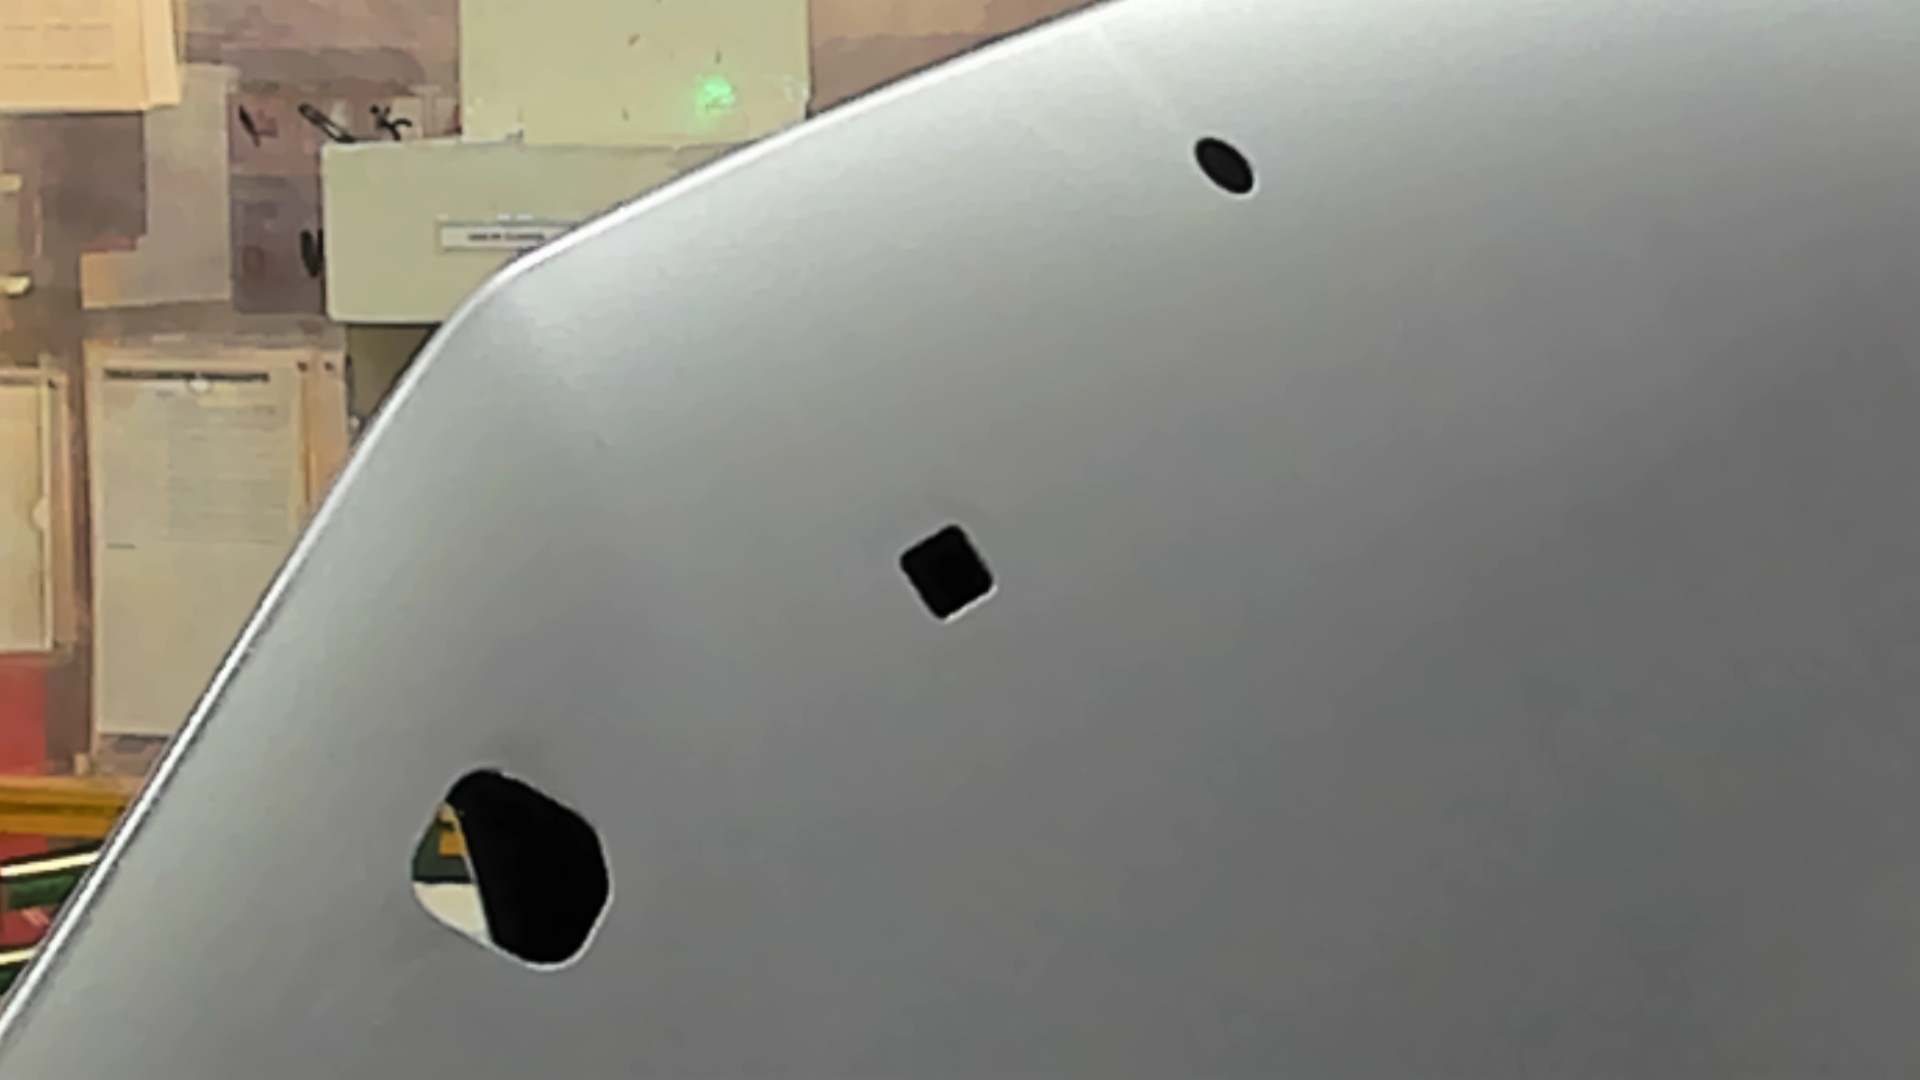chico: (1175, 120, 1274, 208)
grande: (377, 756, 618, 977)
mediano: (878, 509, 1014, 637)
